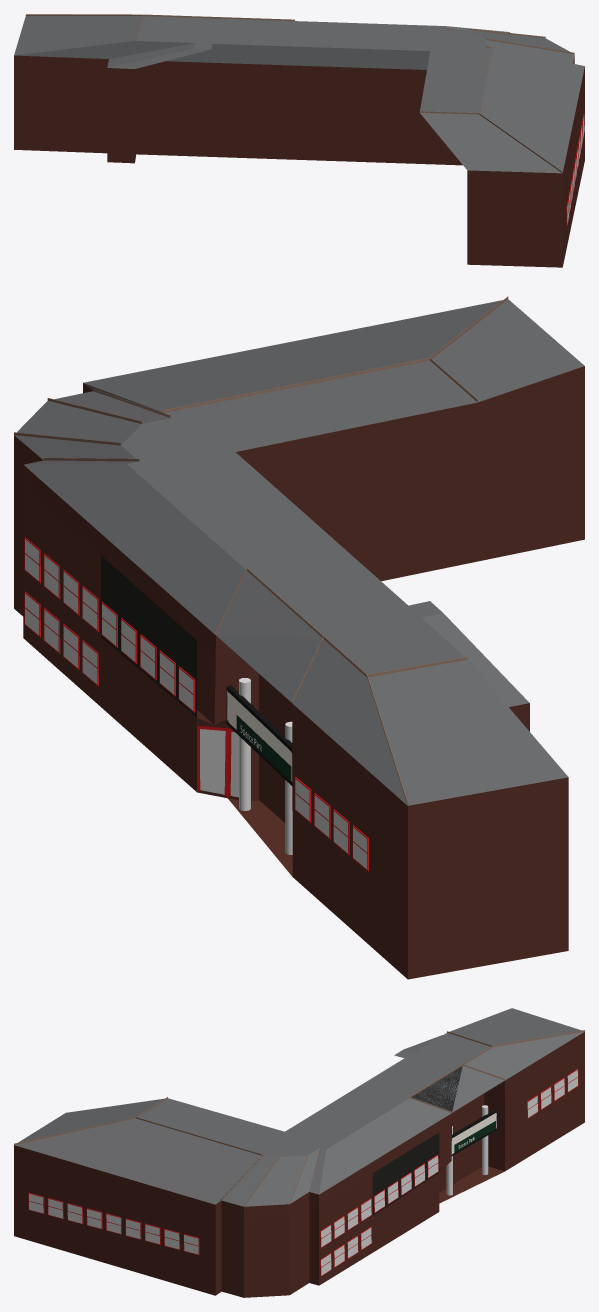
Rendered from Sheffield Science Park.fbx.
The picture shows the model from 3 angles, top to bottom: view 1: azimuth 30°, elevation 25°; view 2: azimuth 150°, elevation 25°; view 3: azimuth 270°, elevation 25°; orthographic projection. The views are drawn at different scales.
Parts seen in each view (by area): view 1: Sheffield Science Park; view 2: Sheffield Science Park; view 3: Sheffield Science Park.
Part boxes in pixels (left/top/right/bottom): Sheffield Science Park: left=14, top=14, right=584, bottom=267; Sheffield Science Park: left=14, top=296, right=584, bottom=979; Sheffield Science Park: left=14, top=1008, right=584, bottom=1297.
Size of the model in its own units: 7483 by 1923 by 9084.
